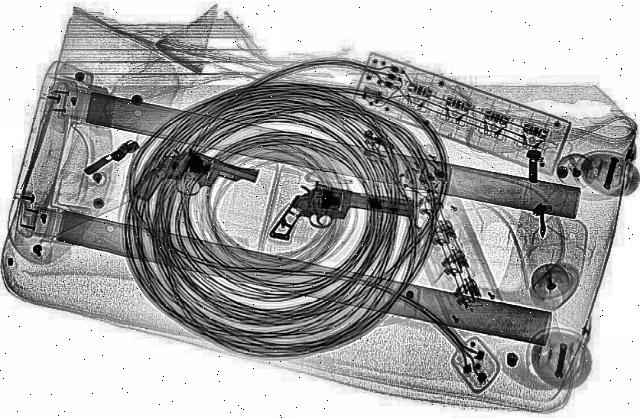Gun: (266, 181, 420, 258), (126, 145, 264, 223)
